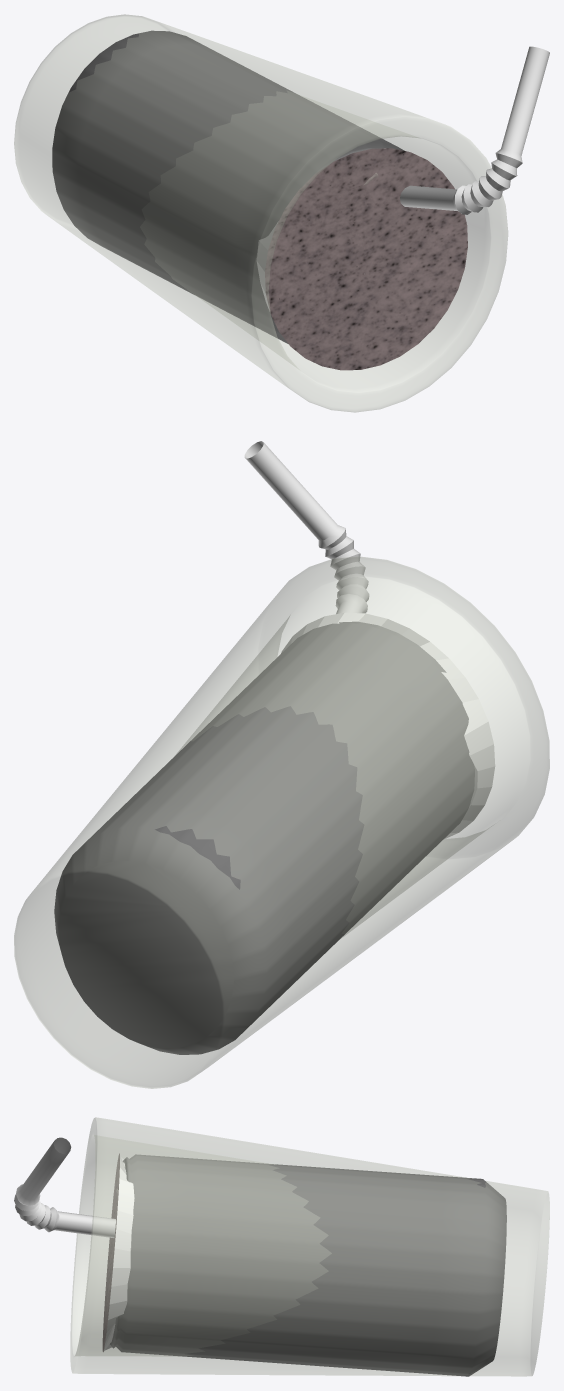
The model's file is cookies.glb.
3 views of the same model, one above another, from view 1: azimuth 30°, elevation 25°; view 2: azimuth 150°, elevation 25°; view 3: azimuth 270°, elevation 25° (orthographic). The views are drawn at different scales.
Visible parts, largest first — view 1: Vert.002, Cylinder, coffee.001, Vert.001; view 2: Vert.002, Cylinder, Vert.001, coffee.001; view 3: Vert.002, Cylinder, Vert.001, coffee.001.
Part boxes in pixels (x1,y1,x2,y2): Vert.002: [14, 14, 507, 412]; Cylinder: [52, 30, 404, 343]; coffee.001: [256, 148, 467, 370]; Vert.001: [400, 46, 549, 214]; Vert.002: [14, 556, 549, 1088]; Cylinder: [54, 621, 474, 1054]; Vert.001: [244, 441, 369, 613]; coffee.001: [281, 612, 495, 839]; Vert.002: [70, 1117, 549, 1376]; Cylinder: [110, 1154, 506, 1376]; Vert.001: [14, 1137, 115, 1237]; coffee.001: [102, 1153, 134, 1351].
Bounding box in the file's own units: 12.15 × 13.9 × 22.92.
5 materials, 1 textured.
